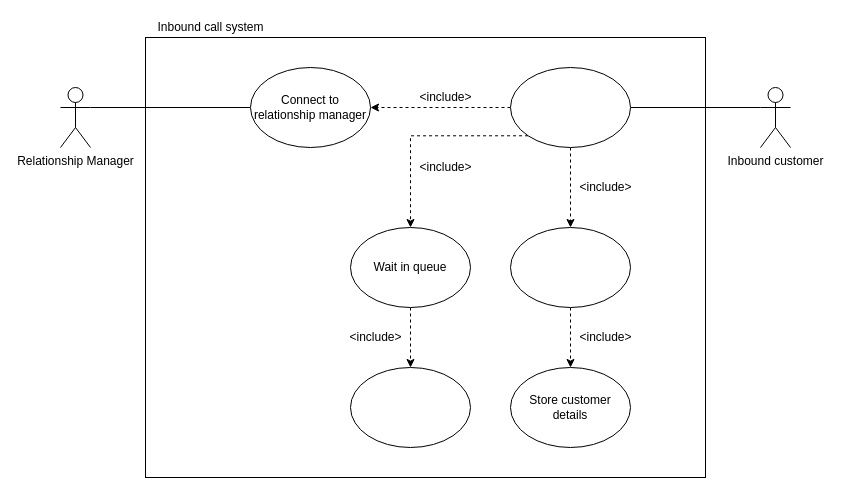
Image size: 841x495. Some labels were removed from this diagram. Here are the shapes that lost their labels. From the top down, the centre of each, then its label:
the point at 570,107: Call agency
the point at 570,267: Respond to Interactive Voice Unit
the point at 410,407: Disconnect call
